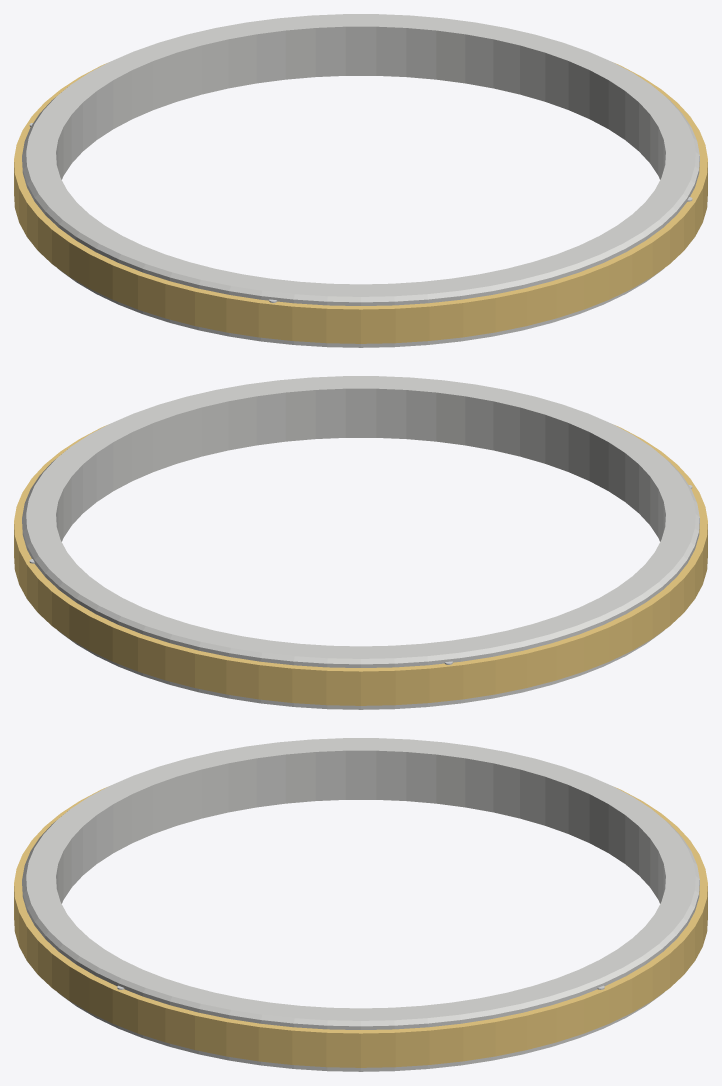
The model's file is ax_util_30_sunshade_xl.glb.
The picture shows the model from 3 angles, top to bottom: view 1: azimuth 30°, elevation 25°; view 2: azimuth 150°, elevation 25°; view 3: azimuth 270°, elevation 25°; orthographic projection.
Parts seen in each view (by area): view 1: canister_ring, membrane_stowed; view 2: canister_ring, membrane_stowed; view 3: canister_ring, membrane_stowed.
Boxes of the visible parts, x1,y1,x2,y2 form: canister_ring: (22, 14, 699, 347); membrane_stowed: (14, 63, 707, 343); canister_ring: (22, 376, 699, 709); membrane_stowed: (14, 425, 707, 705); canister_ring: (22, 738, 699, 1071); membrane_stowed: (14, 787, 707, 1067).
Size of the model in its own units: 5.12 by 0.4 by 5.12.
